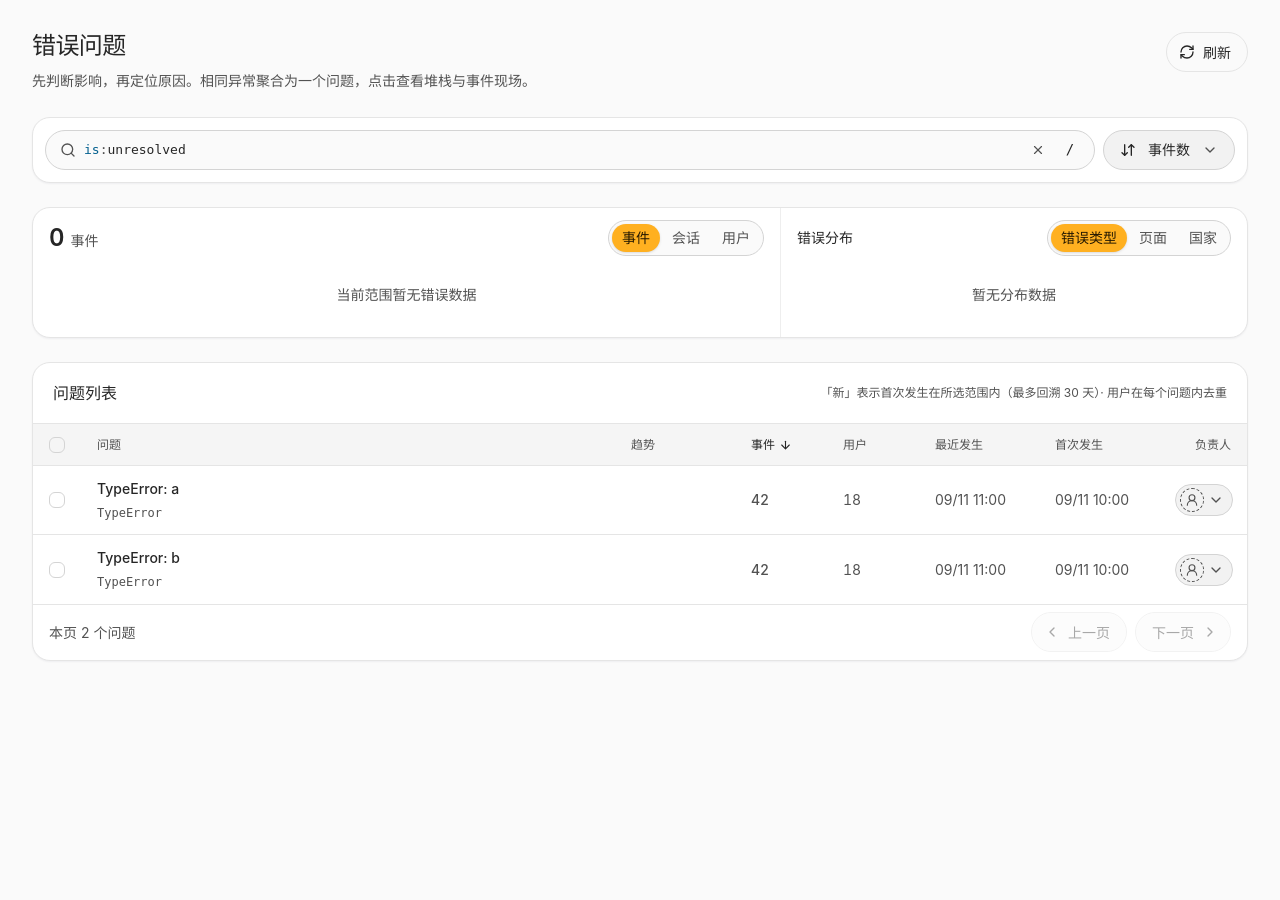
Scenario: issues page states › applies one change to the selected rows in a single request
Expected: the link "TypeError: a" is shown, [97, 478, 179, 499]
Click the checkbox named "选择问题：TypeError: a" at coordinates (57, 500), box [49, 492, 65, 508]
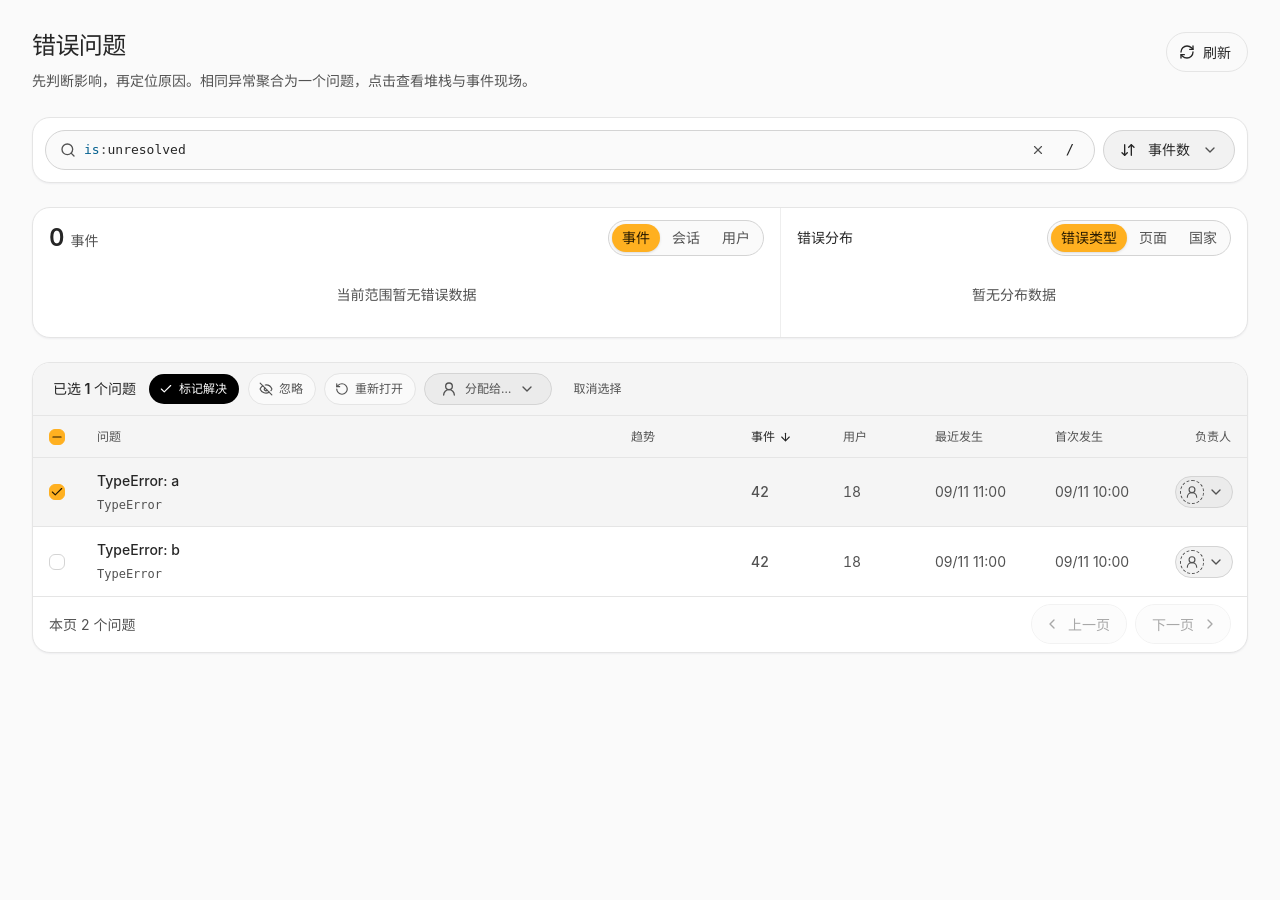
Expected: the text "已选 1 个问题" is shown, [53, 378, 136, 399]
Click the checkbox named "选择本页全部问题" at coordinates (57, 436), box [49, 428, 65, 444]
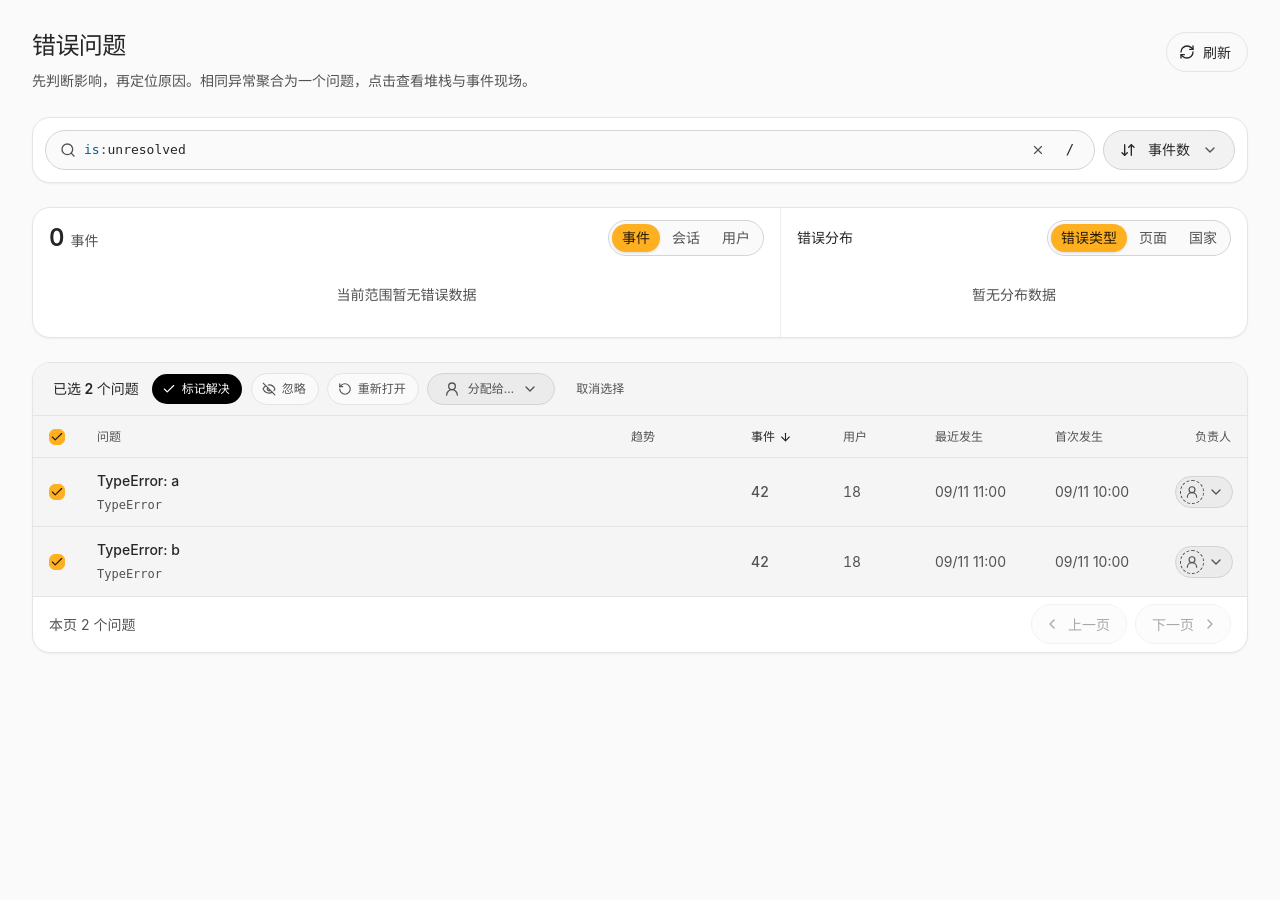
Expected: the text "已选 2 个问题" is shown, [53, 378, 139, 399]
Click the button "标记解决" at coordinates (197, 389), box [151, 373, 243, 405]
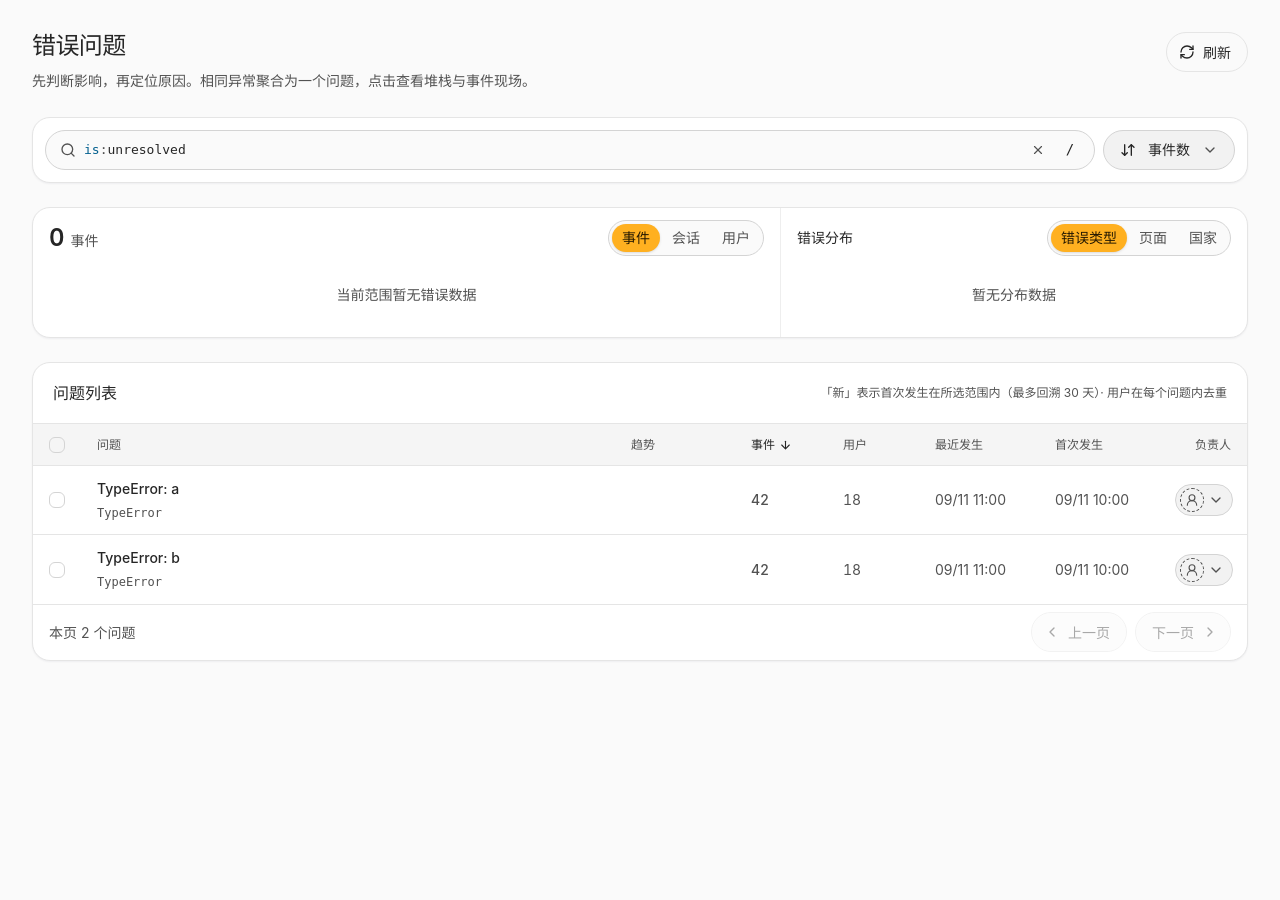
Expected: the element "批量操作" is gone
Expected: the heading "问题列表" is shown, [53, 381, 117, 405]
